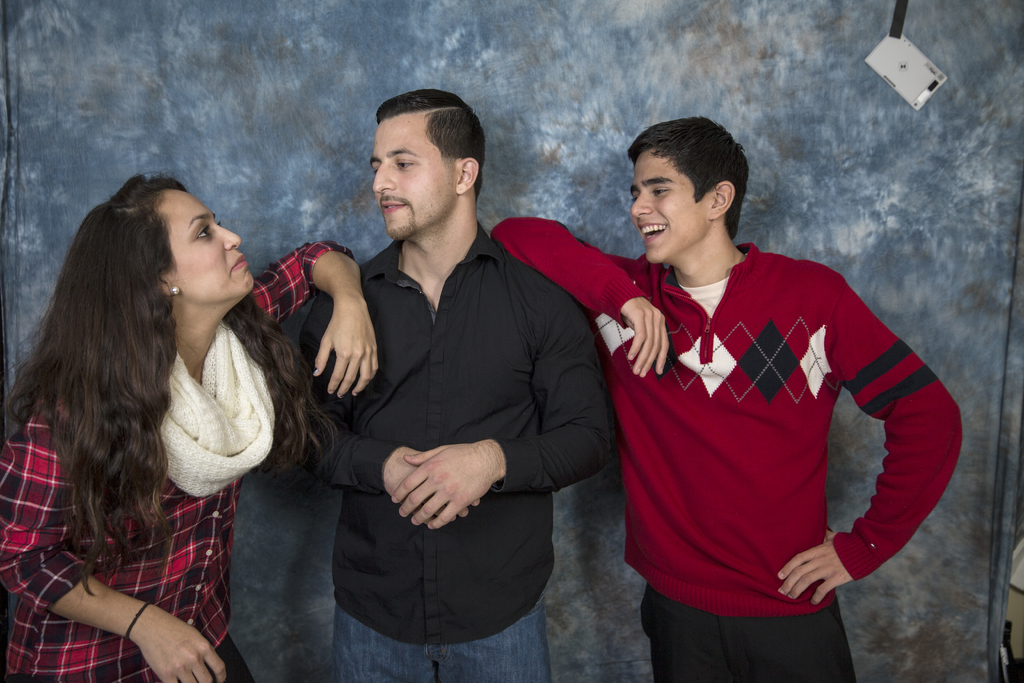Human_hand: (394, 443, 499, 531), (383, 448, 482, 524), (311, 304, 381, 398), (140, 611, 227, 682), (774, 531, 851, 608), (621, 295, 671, 379)
